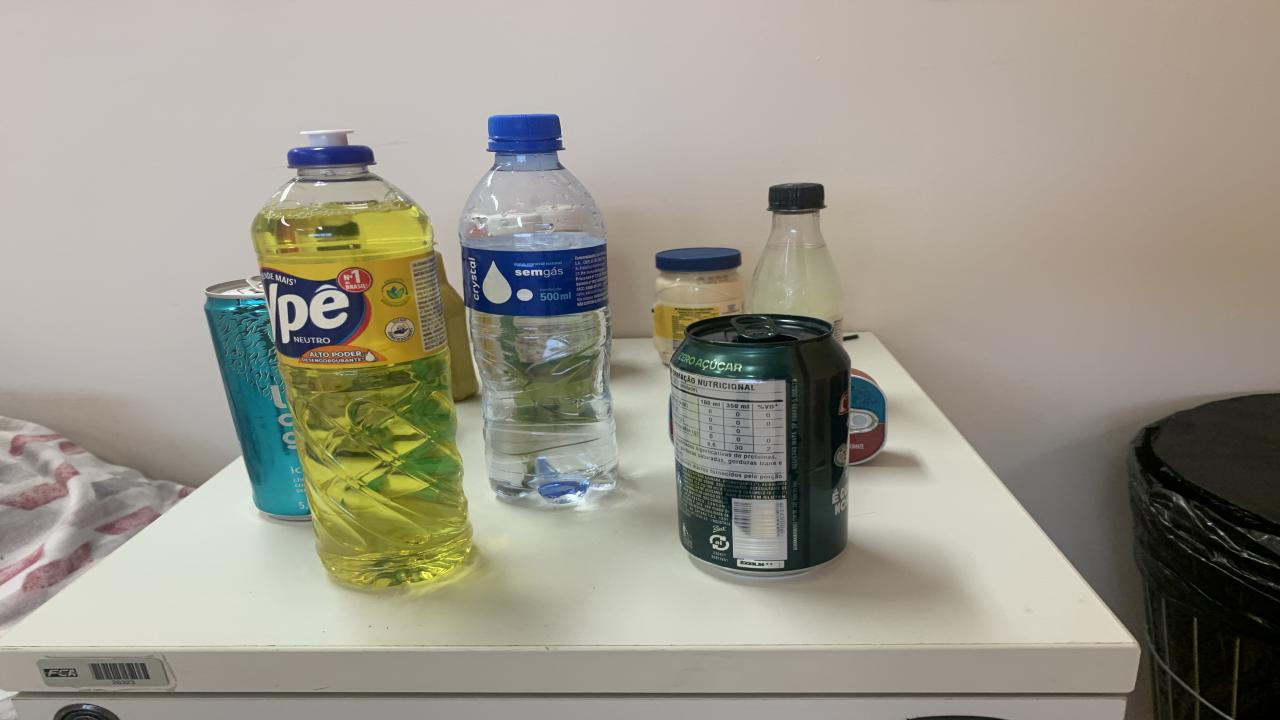Detergent-Cleanup_Items: (252, 131, 472, 587)
Guarana_Can-Drinks: (670, 313, 850, 574)
Mayonnaise-Pantry_Items: (652, 248, 745, 364)
Mustard-Pantry_Items: (435, 251, 478, 401)
Soda-Drinks: (748, 182, 845, 339)
Tea-Drinks: (205, 276, 310, 519)
Tuna_Can-Pantry_Items: (848, 369, 888, 465)
Water_Bottle-Drinks: (460, 114, 618, 504)
